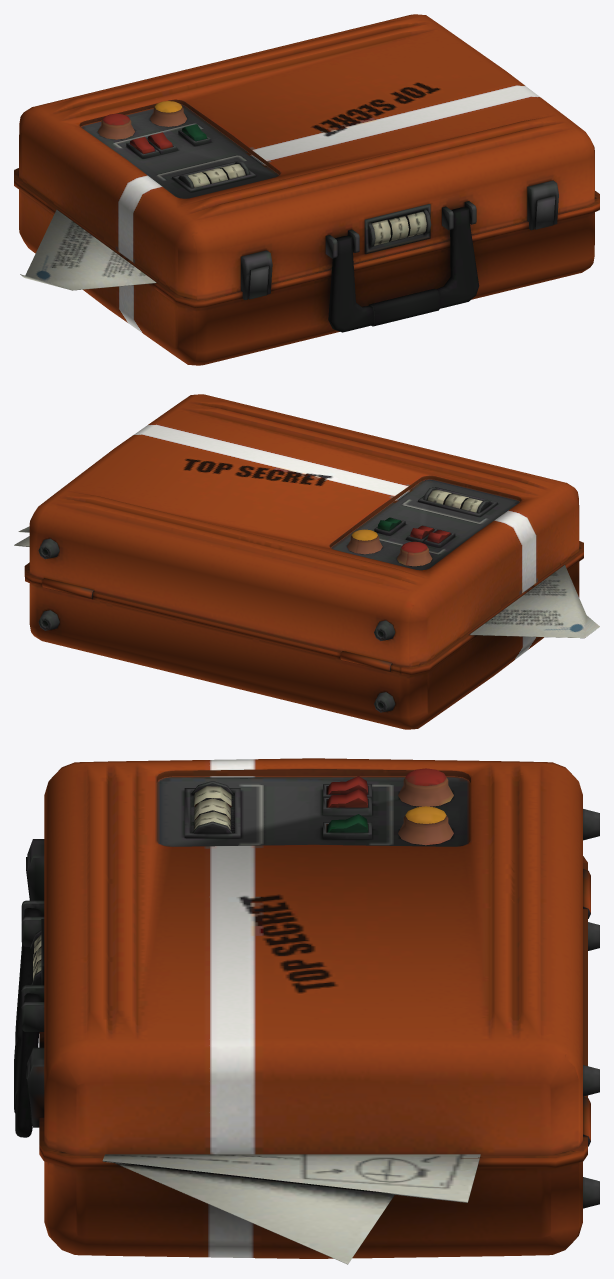
File: briefcase.obj
3 renders of one model, top to bottom at view 1: azimuth 30°, elevation 25°; view 2: azimuth 150°, elevation 25°; view 3: azimuth 270°, elevation 25°, orthographic. The views are drawn at different scales.
Visible parts, largest first — view 1: briefcase_reference; view 2: briefcase_reference; view 3: briefcase_reference.
Boxes of the visible parts, x1,y1,x2,y2 form: briefcase_reference: (14, 14, 599, 365); briefcase_reference: (14, 394, 599, 729); briefcase_reference: (14, 758, 599, 1264).
Bounding box in the file's own units: 45.07 × 11.6 × 26.1.
Materials: 1 (1 with a texture image).
